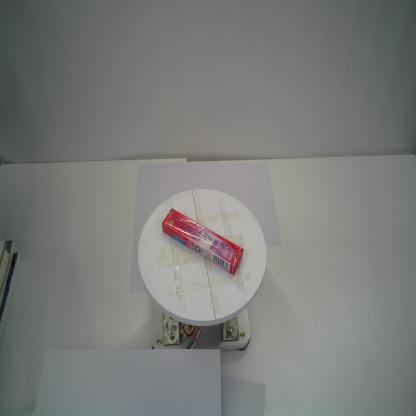Candy: (162, 209, 244, 276)
